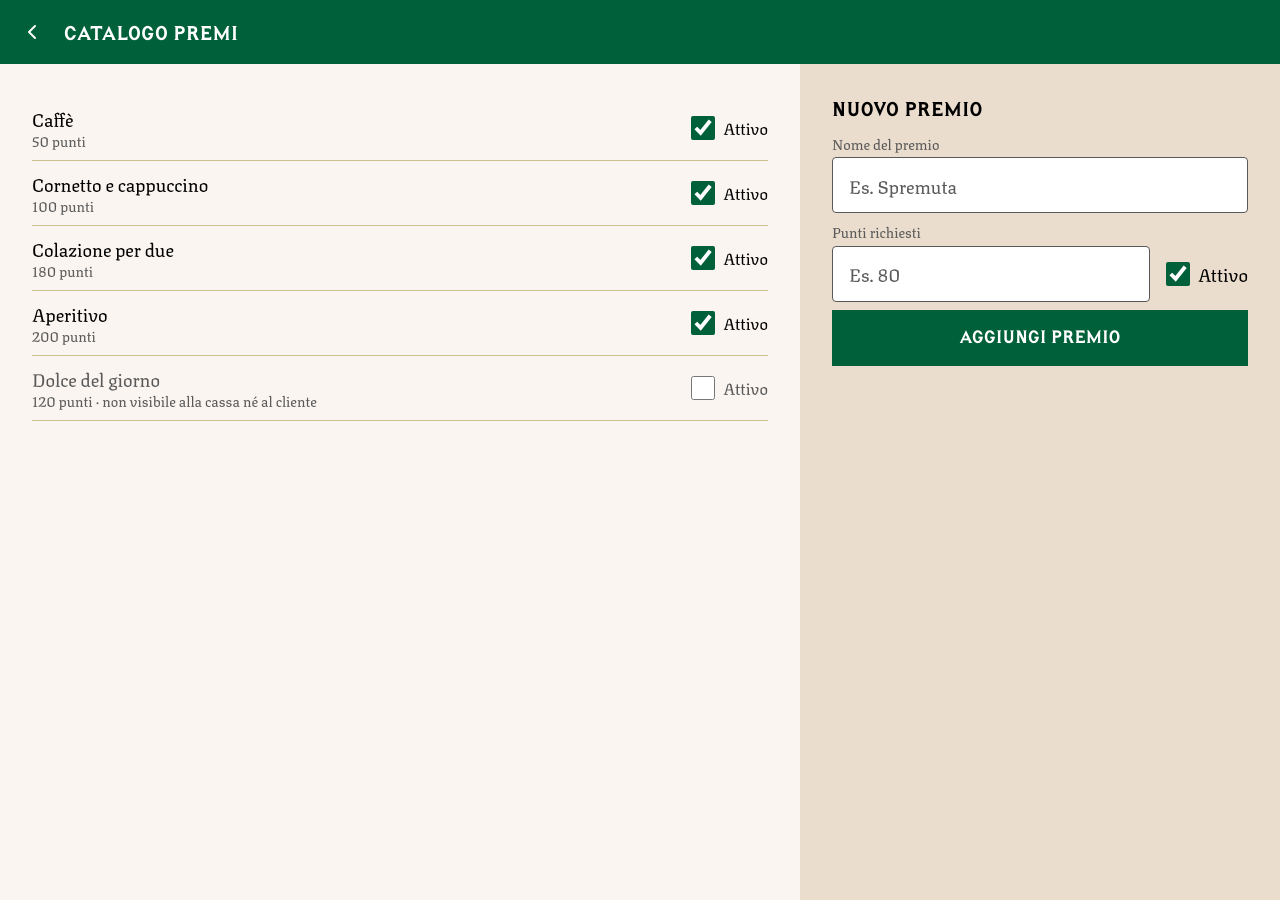
it: Catalogo premi: the Attivo box of a row › deactivating saves at once: the row goes grey at the bottom with the focus on its box
Click the checkbox named "Caffè attivo": [703, 128] box x1=691 y1=116 x2=715 y2=140
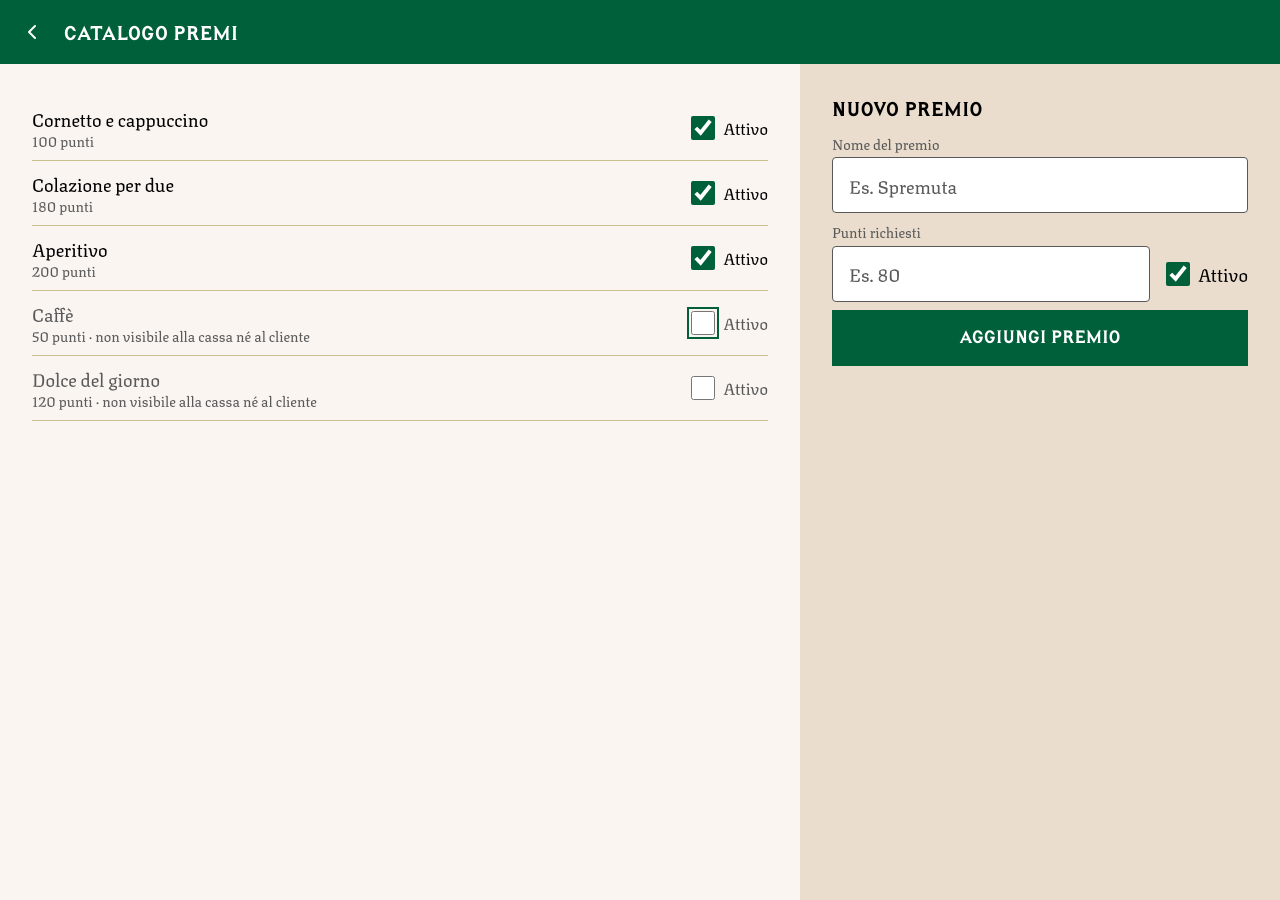
Check: the checkbox named "Caffè attivo" is enabled, box x1=691 y1=311 x2=715 y2=335
Check: the checkbox named "Caffè attivo" is not checked, box x1=691 y1=311 x2=715 y2=335
Check: the text "50 punti · non visibile alla cassa né al cliente" is shown, box x1=32 y1=325 x2=310 y2=345
